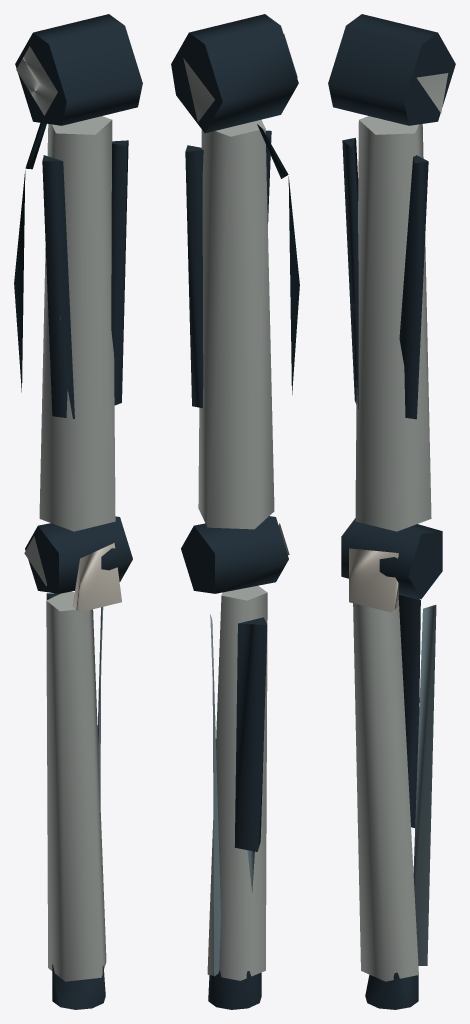
Rendered from aurel03_leg_r_d0_lod2.glb.
The picture shows the model from 3 angles, left to right: view 1: azimuth 30°, elevation 25°; view 2: azimuth 210°, elevation 25°; view 3: azimuth 330°, elevation 25°; orthographic projection.
Parts seen in each view (by area): view 1: DISTANCE_SURFACE; view 2: DISTANCE_SURFACE; view 3: DISTANCE_SURFACE.
Boxes of the visible parts, x1,y1,x2,y2 form: DISTANCE_SURFACE: (14,14,142,1009); DISTANCE_SURFACE: (171,14,299,1009); DISTANCE_SURFACE: (328,14,455,1009).
Size of the model in its own units: 0.0834 by 0.848 by 0.084.
